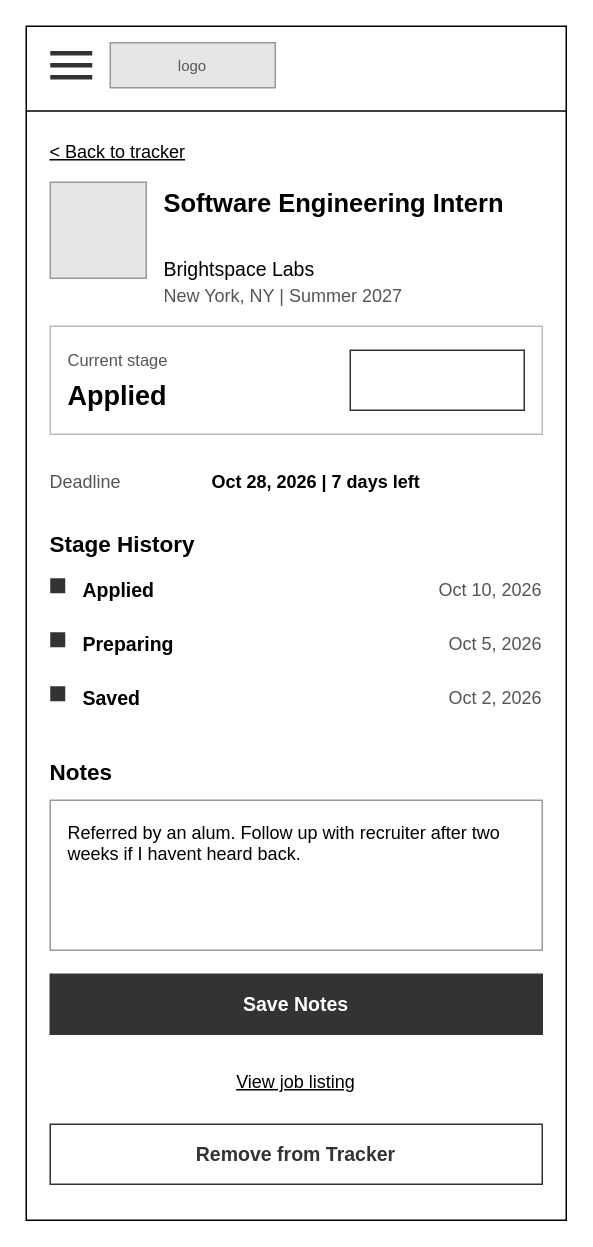
Some shapes in this 593 by 1247 pixel diagram are drawn without their labels. The box of each missing label's shape, as (x1, y1, x2, y2) in pixels:
company logo: (49, 181, 146, 278)
Update Stage: (349, 349, 524, 410)
